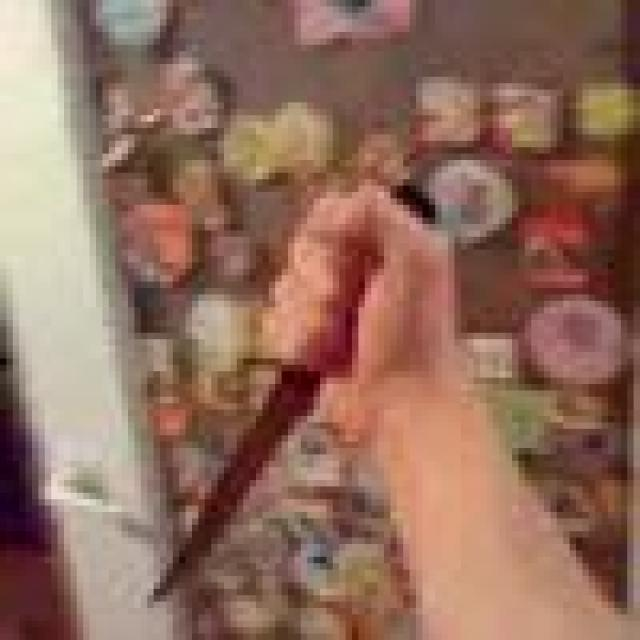faca: (109, 153, 468, 628)
